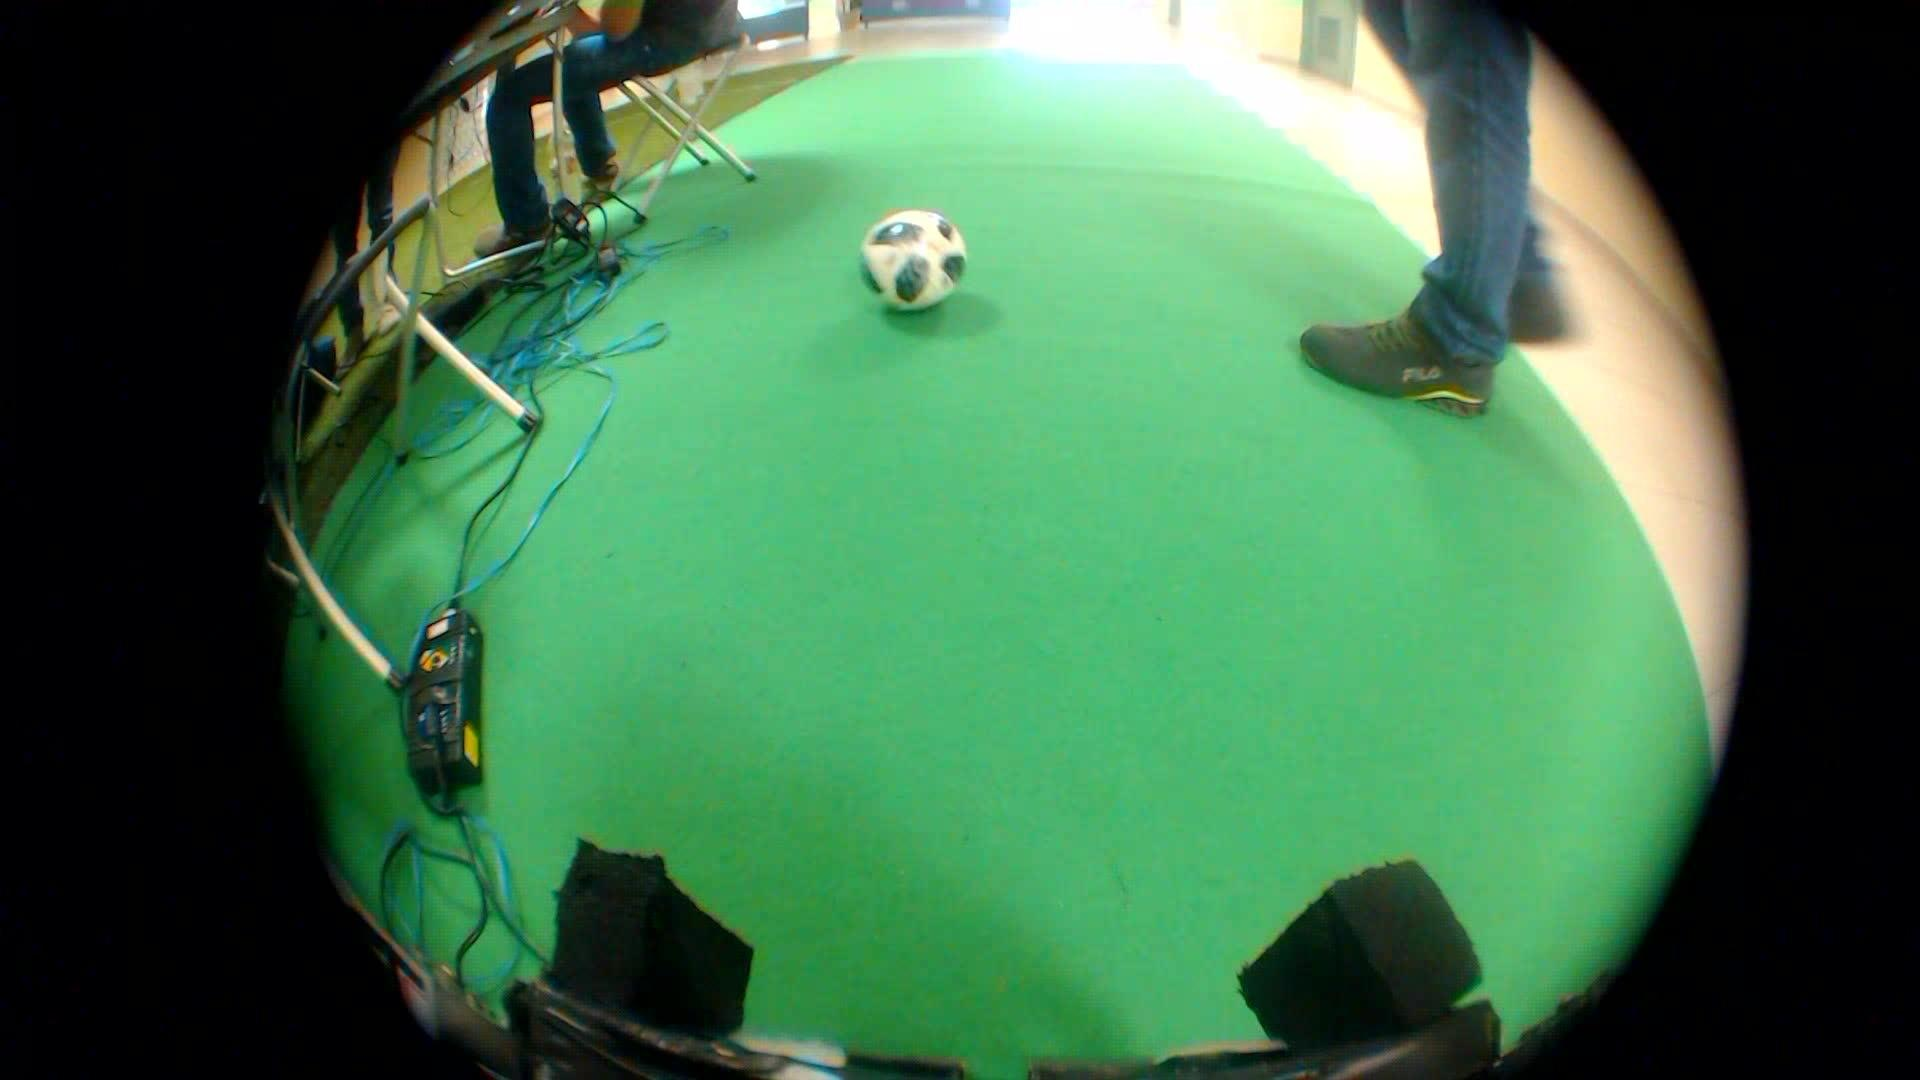ball: (851, 199, 977, 314)
